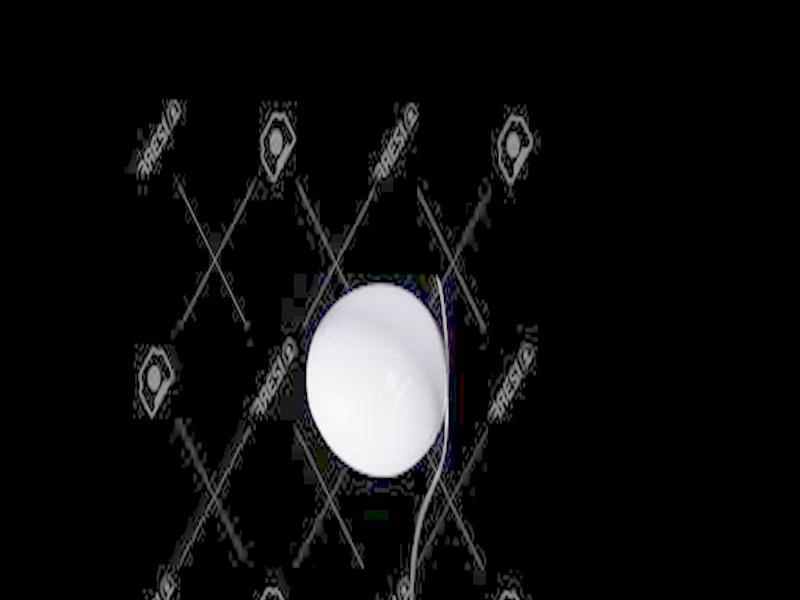Eggs: (307, 283, 448, 477)
